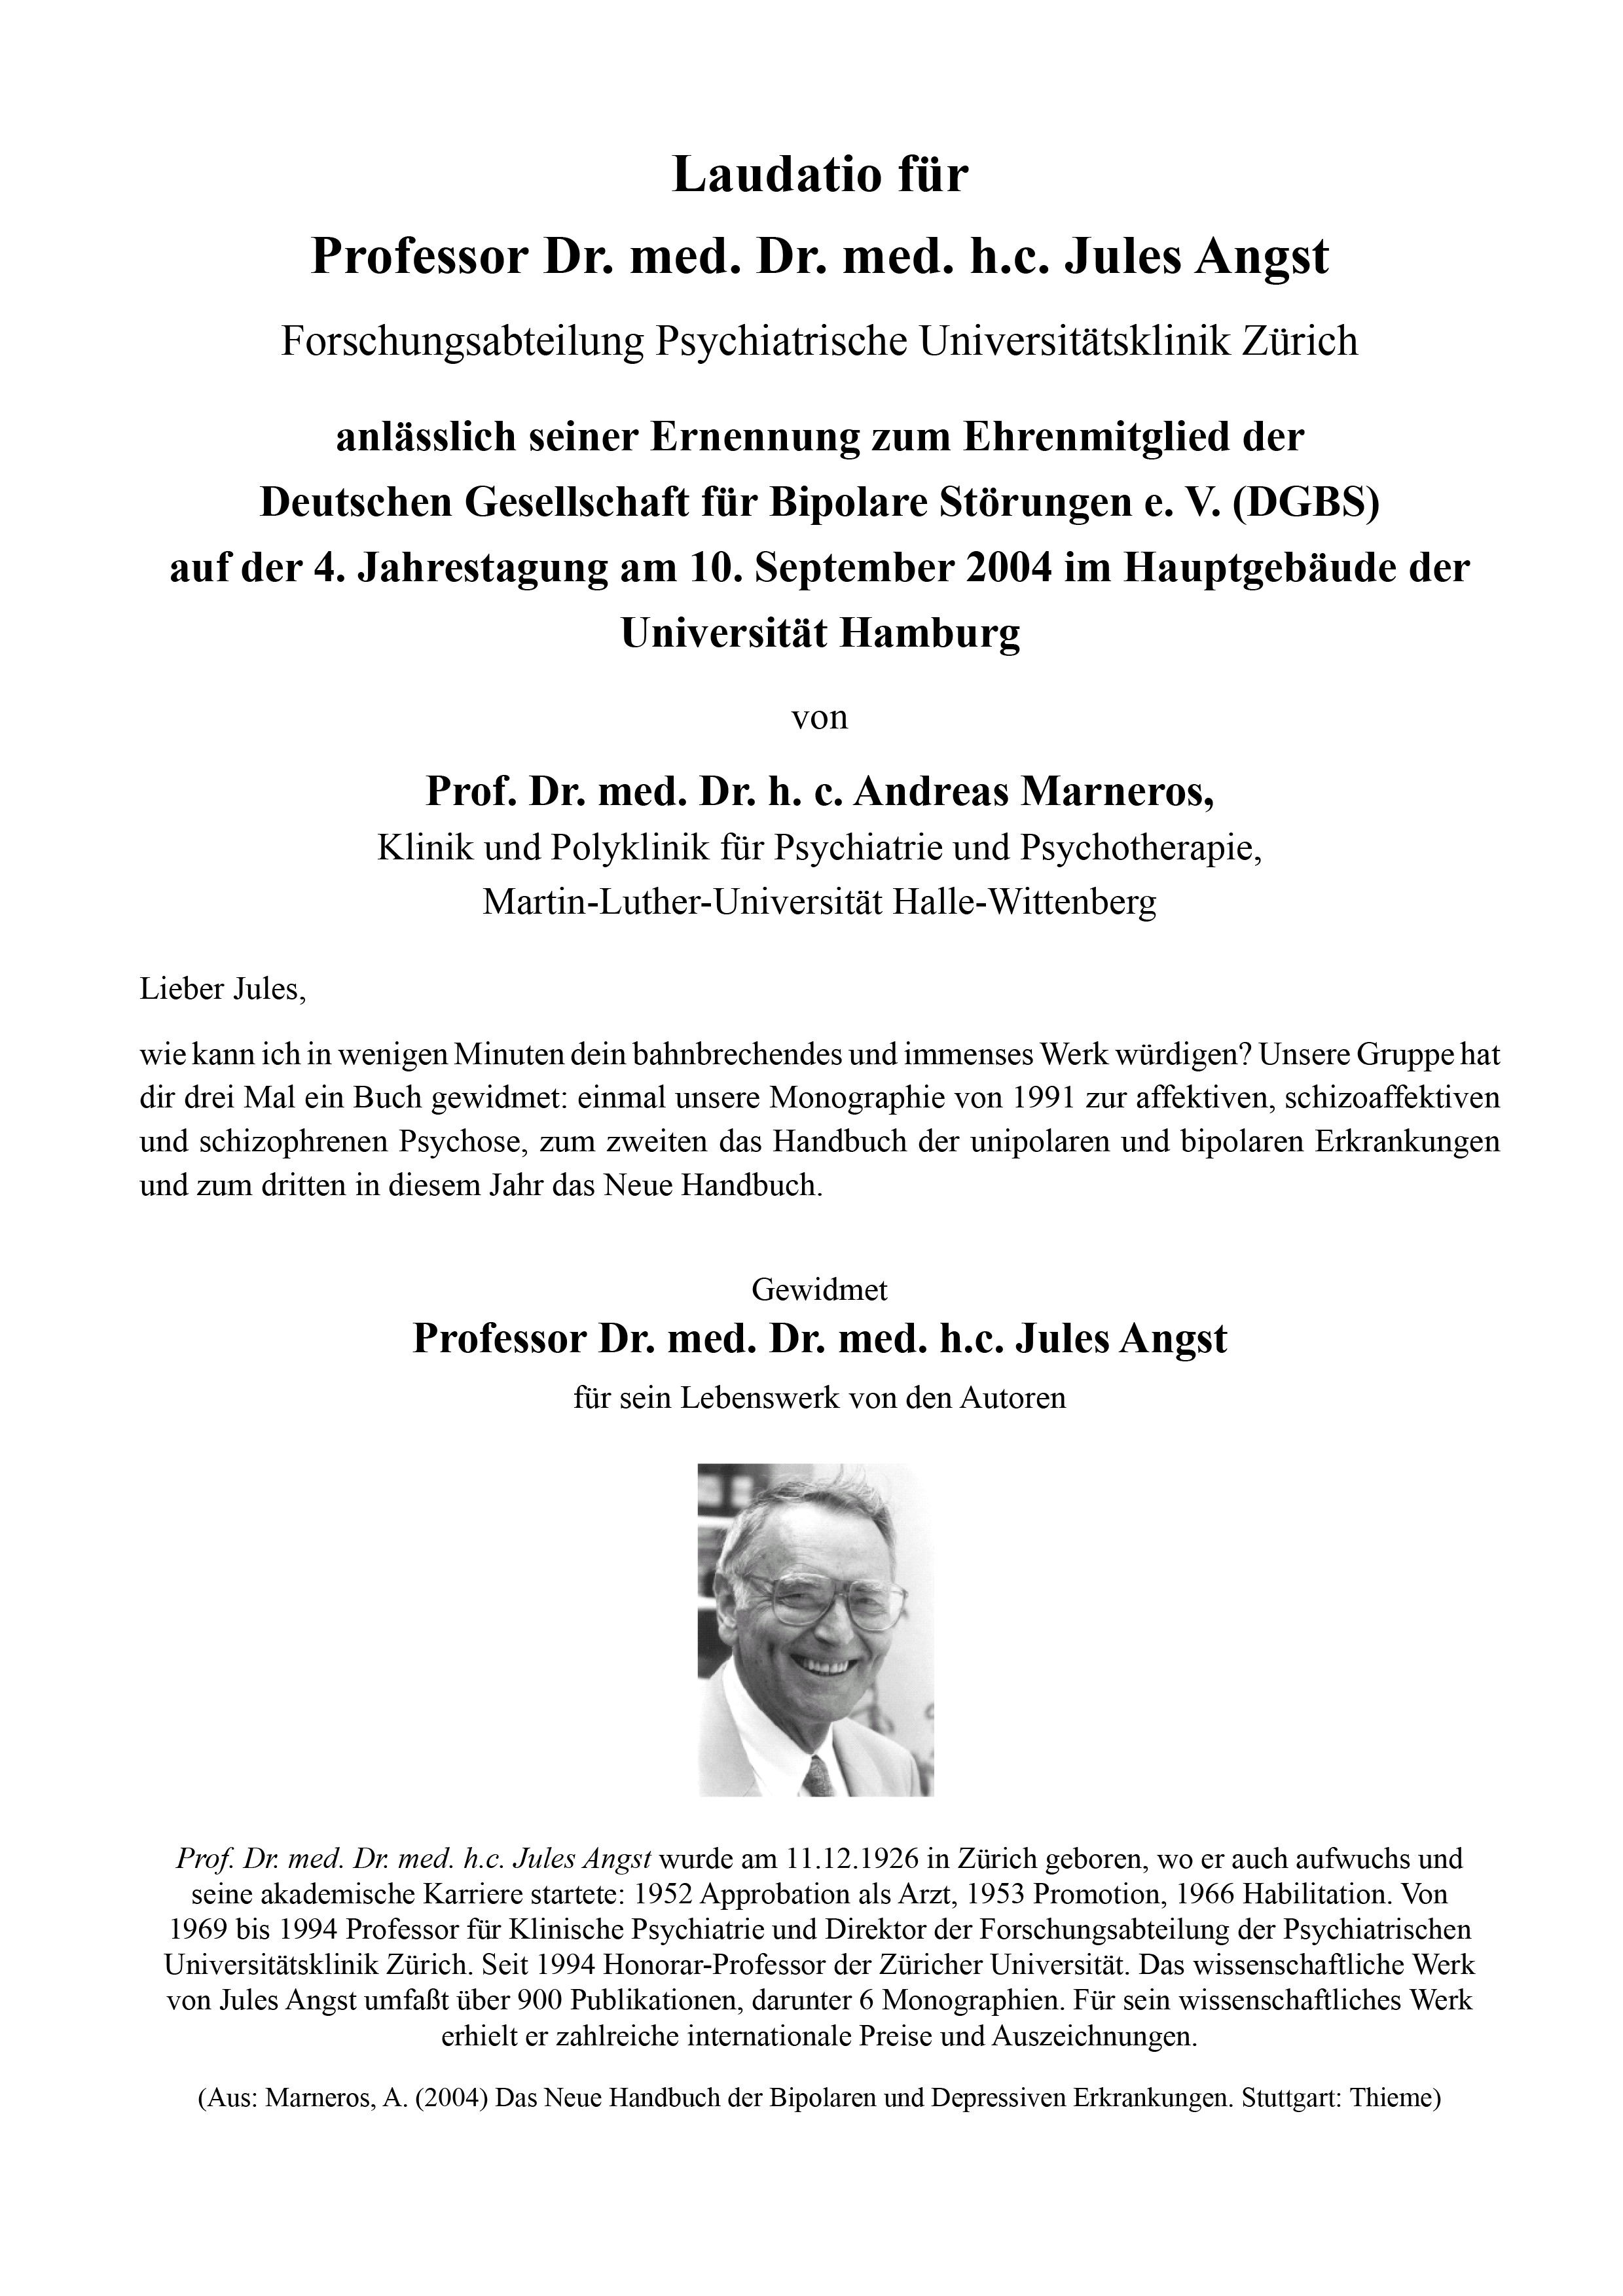figure: (697, 1452, 959, 1820)
section: (290, 147, 1344, 293), (374, 1278, 1270, 1418), (430, 760, 1240, 827), (406, 1302, 1240, 1359), (112, 955, 332, 1008)
text: (162, 405, 1512, 644), (172, 1831, 1474, 2064), (105, 1025, 1533, 1218), (371, 818, 1275, 934), (265, 311, 1372, 381), (184, 2068, 1481, 2127), (550, 1380, 1093, 1413)
